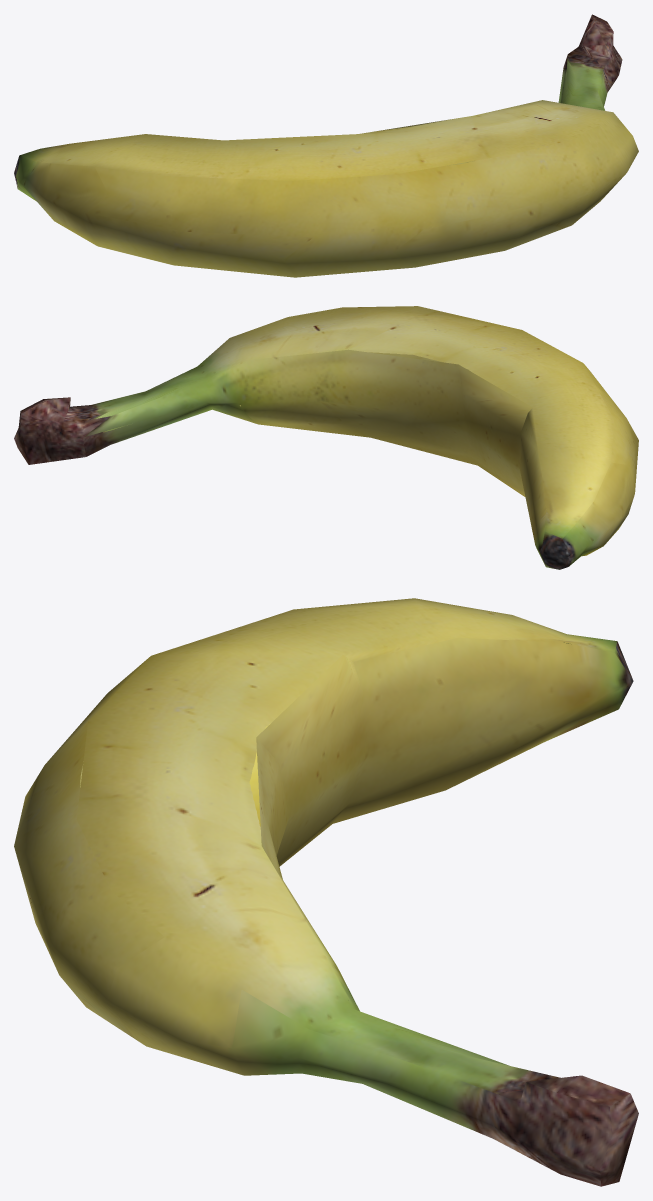
File: banana_lod.obj
3 views of the same model, one above another, from view 1: azimuth 30°, elevation 25°; view 2: azimuth 150°, elevation 25°; view 3: azimuth 270°, elevation 25° (orthographic). The views are drawn at different scales.
Parts seen in each view (by area): view 1: Cube.001; view 2: Cube.001; view 3: Cube.001.
Boxes of the visible parts, box(x1,y1,x2,y2) form: Cube.001: box(14, 14, 638, 277); Cube.001: box(14, 306, 638, 569); Cube.001: box(14, 598, 638, 1186).
Size of the model in its own units: 0.1908 by 0.0353 by 0.1059.
Materials: 1 (1 with a texture image).
